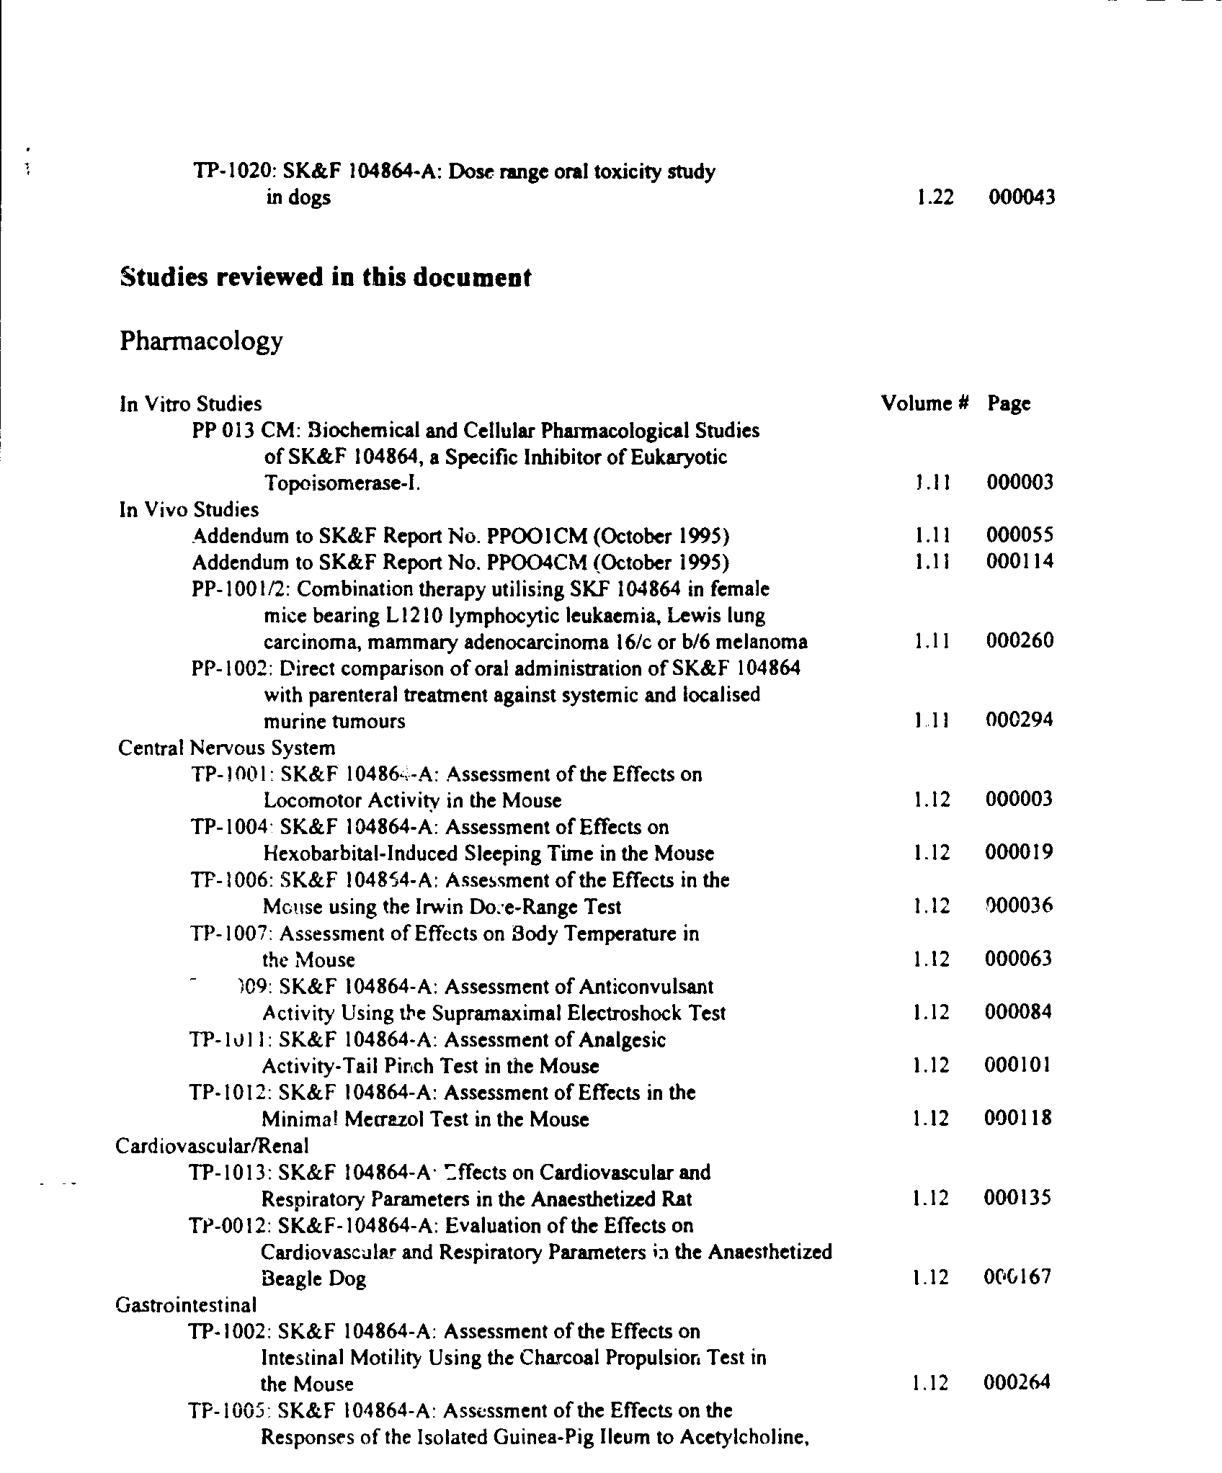nolines: (103, 387, 1064, 1451)
